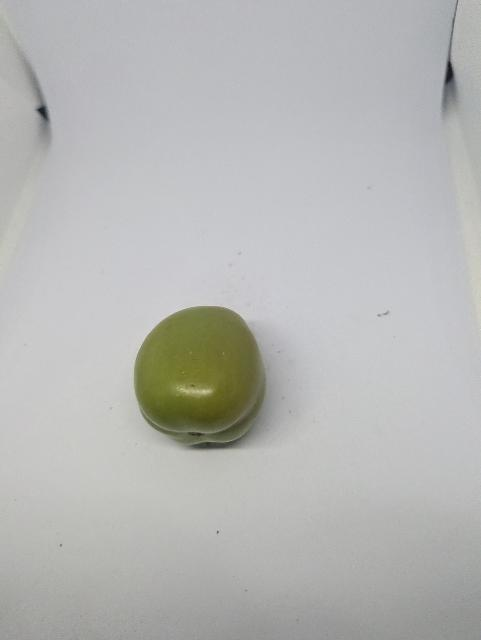green: (118, 275, 288, 485)
